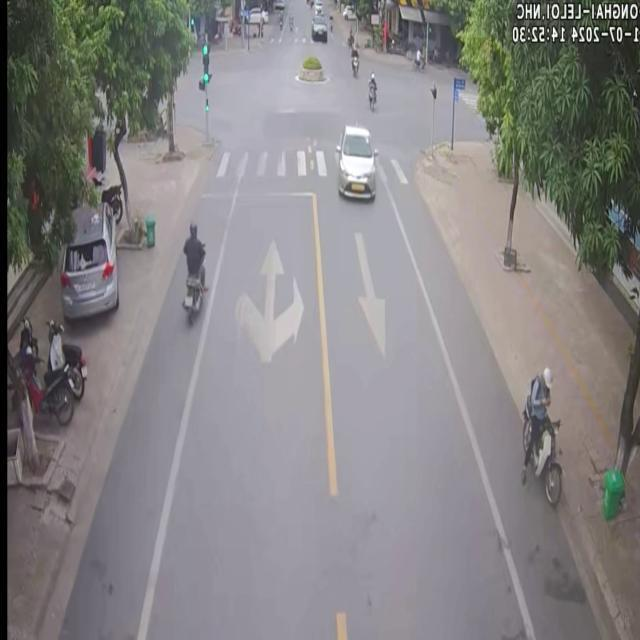car: (58, 200, 117, 318), (333, 125, 377, 200), (309, 11, 326, 39)
green_light: (200, 40, 210, 88)
motobike: (519, 365, 560, 502), (15, 349, 72, 422), (46, 318, 86, 398), (180, 220, 203, 322), (367, 71, 376, 108)
stop_line: (207, 187, 314, 195)
